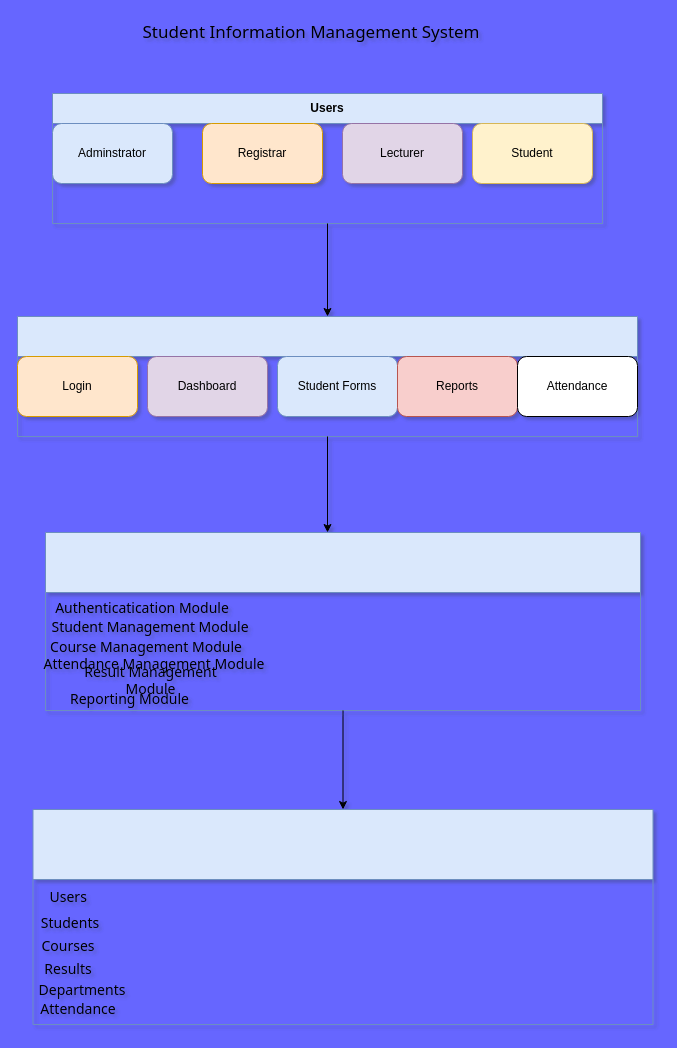
The diagram is 677 pixels wide and 1048 high, and some of its shapes have lost their labels. Each missing label, with the box of its shape:
Application Layer: (44, 532, 640, 710)
Database Layer: (32, 808, 653, 1024)
Presentation Layer: (16, 316, 638, 436)
